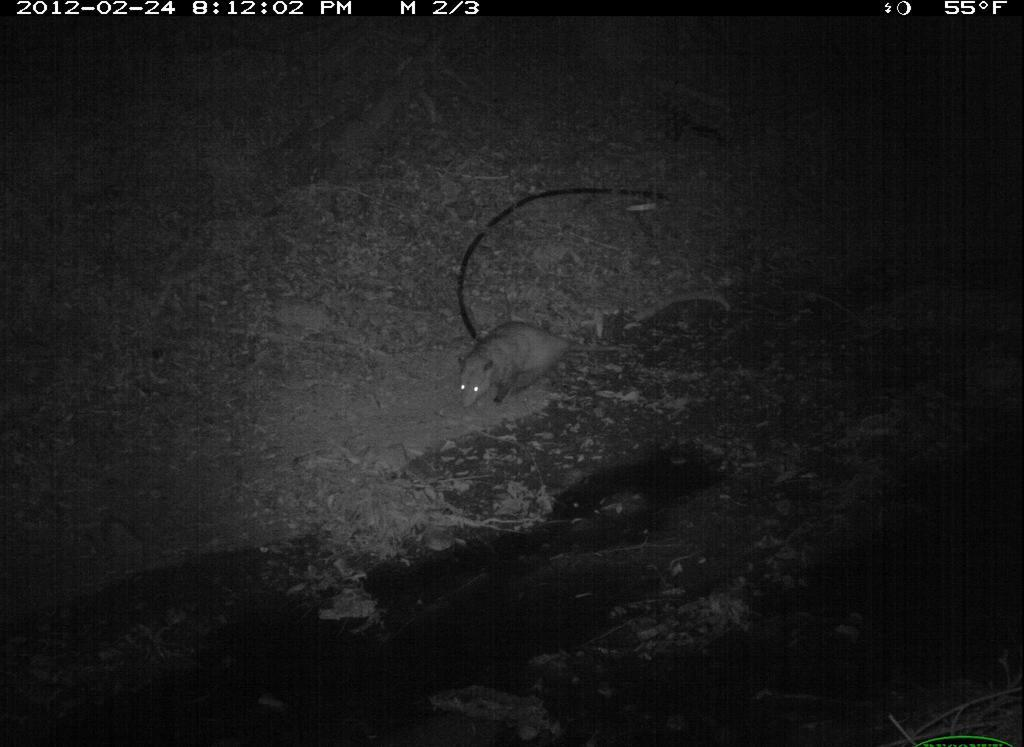opossum: (443, 291, 651, 415)
